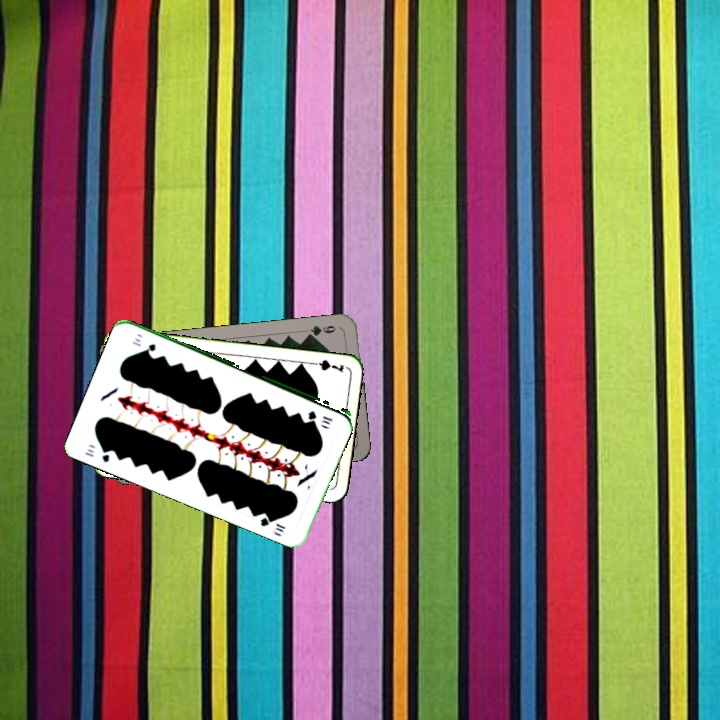G10: (81, 444, 114, 465), (304, 407, 335, 427)
G7: (306, 356, 346, 375)
G9: (302, 321, 338, 340)
